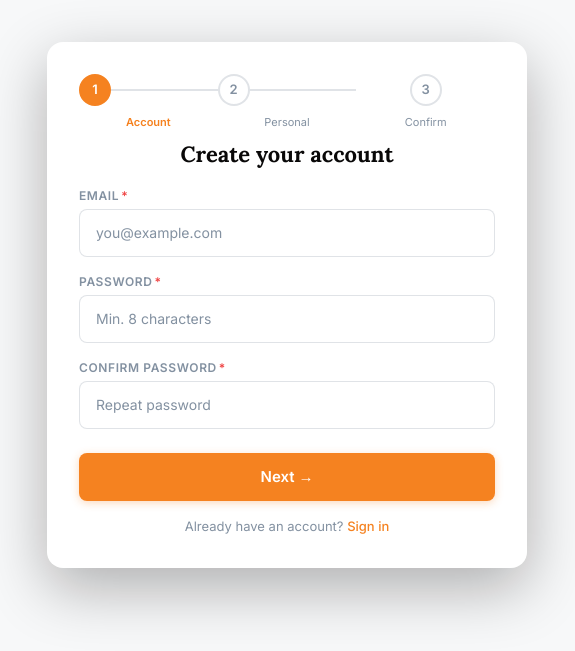
Test: Register component › shows password mismatch error
Type "a@b.com" into the field with placeholder "you@example.com" at (287, 233), box [79,209,495,257]
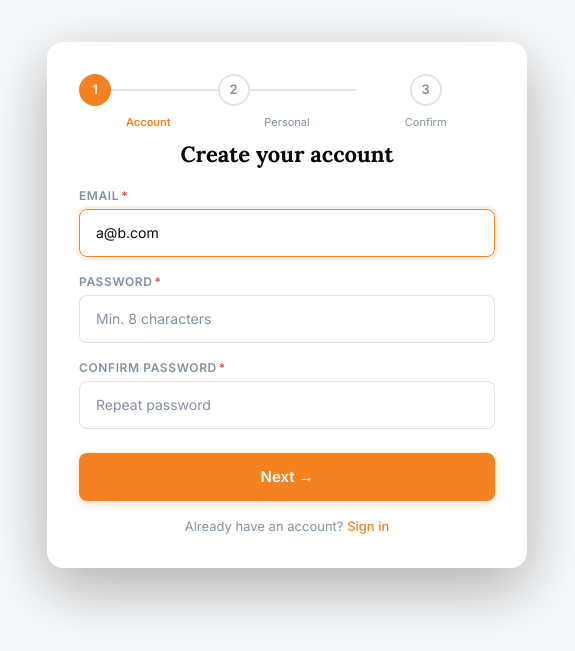
Type "Password1" into the password field with placeholder "Min. 8 characters" at (287, 319), box [79,295,495,343]
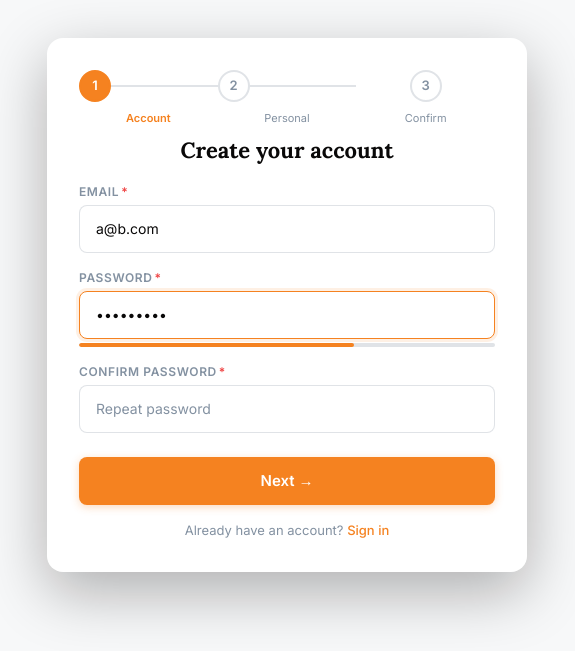
Type "Different1" into the password field with placeholder "Repeat password" at (287, 409), box [79,385,495,433]
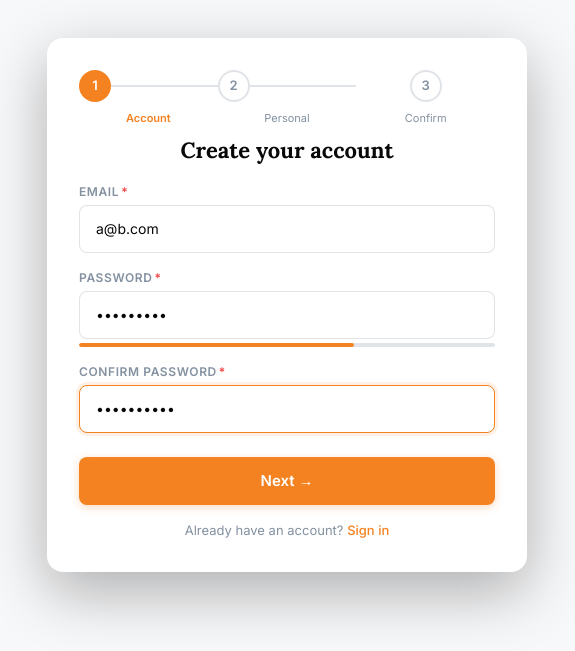
Click the button "Next →" at (287, 481), box [79,457,495,505]
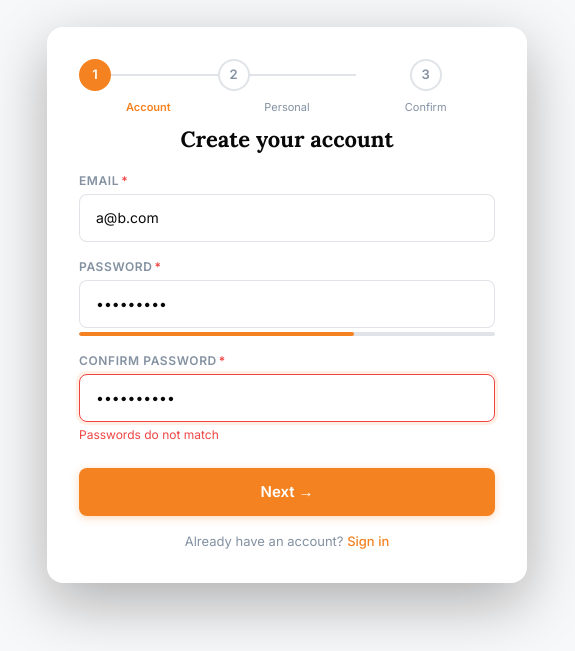
Result: the text "Passwords do not match" is shown at [79,427,219,442]
